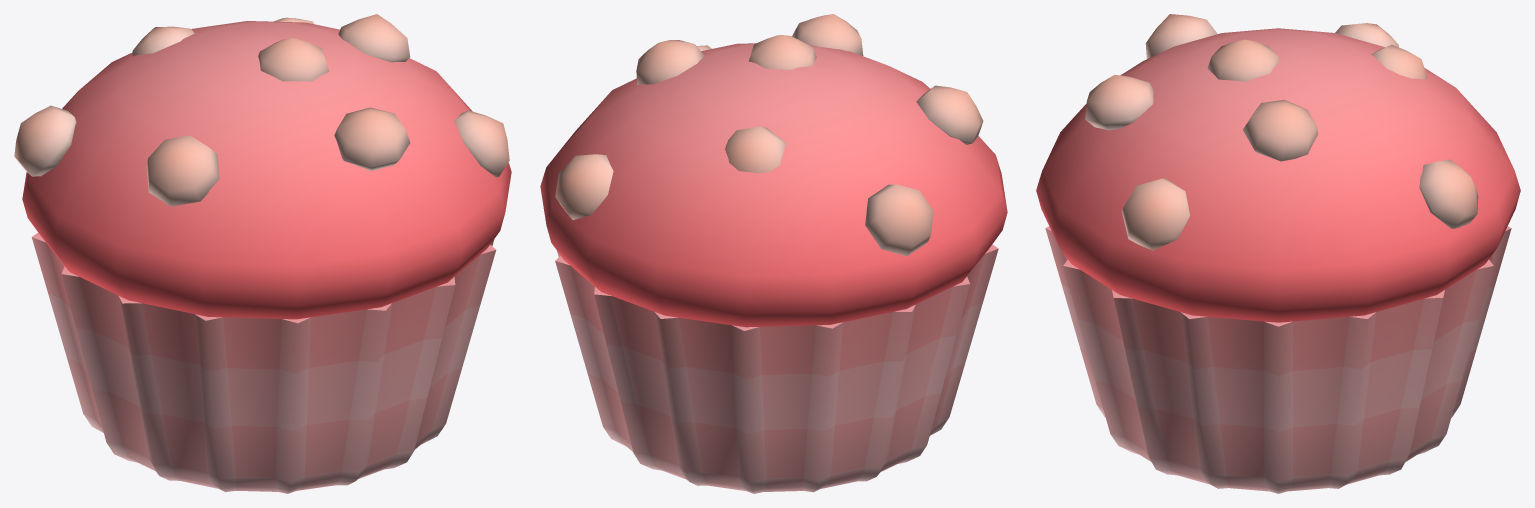
The model's file is Cupcake_Strawberry_V1_00.fbx.
3 renders of one model, left to right at view 1: azimuth 30°, elevation 25°; view 2: azimuth 150°, elevation 25°; view 3: azimuth 270°, elevation 25°, orthographic. The views are drawn at different scales.
Parts seen in each view (by area): view 1: Cupcake_Strawberry_V1_00; view 2: Cupcake_Strawberry_V1_00; view 3: Cupcake_Strawberry_V1_00.
Part boxes in pixels (x1,y1,x2,y2): Cupcake_Strawberry_V1_00: (14, 14, 511, 493); Cupcake_Strawberry_V1_00: (540, 14, 1007, 493); Cupcake_Strawberry_V1_00: (1036, 14, 1520, 493).
Size of the model in its own units: 32.49 by 29.25 by 32.49.
